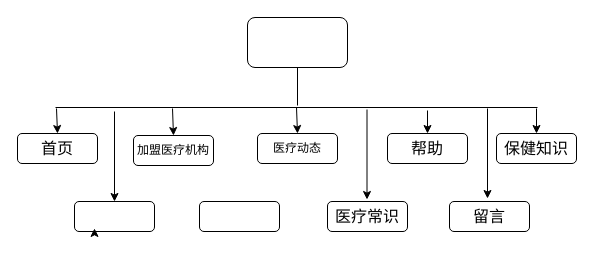
Some shapes in this 594 by 257 pixel diagram are drawn without their labels. The shapes that lost their labels are listed below. From the top down, each one's box as (x1, y1, x2, y2) in pixels, then its label:
(246, 16, 348, 68): 页面结构
(74, 200, 154, 232): 辅助功能
(198, 200, 280, 232): 就诊服务
